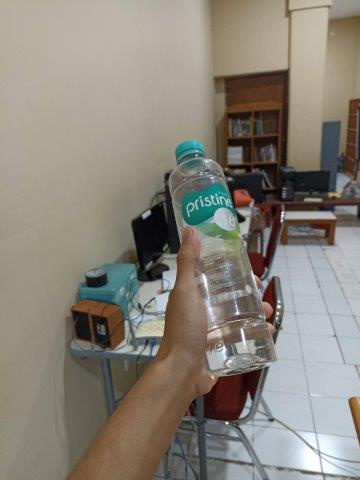botolplastik: (169, 140, 280, 375)
